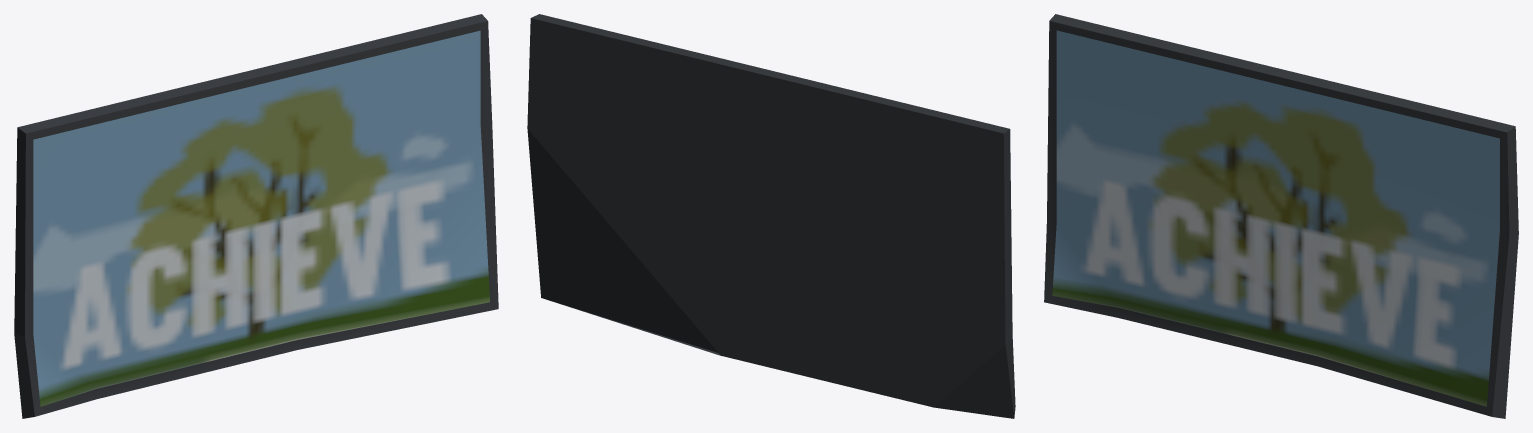
Rendered from SM_Prop_Poster_02.glb.
The picture shows the model from 3 angles, left to right: view 1: azimuth 30°, elevation 25°; view 2: azimuth 150°, elevation 25°; view 3: azimuth 330°, elevation 25°; orthographic projection. The views are drawn at different scales.
Parts seen in each view (by area): view 1: SM_Prop_Poster_02; view 2: SM_Prop_Poster_02; view 3: SM_Prop_Poster_02.
Boxes of the visible parts, x1,y1,x2,y2 form: SM_Prop_Poster_02: [14, 14, 498, 418]; SM_Prop_Poster_02: [527, 14, 1015, 418]; SM_Prop_Poster_02: [1044, 14, 1518, 418].
Bounding box in the file's own units: 0.9561 × 0.5556 × 0.0822.
1 material, 1 textured.
